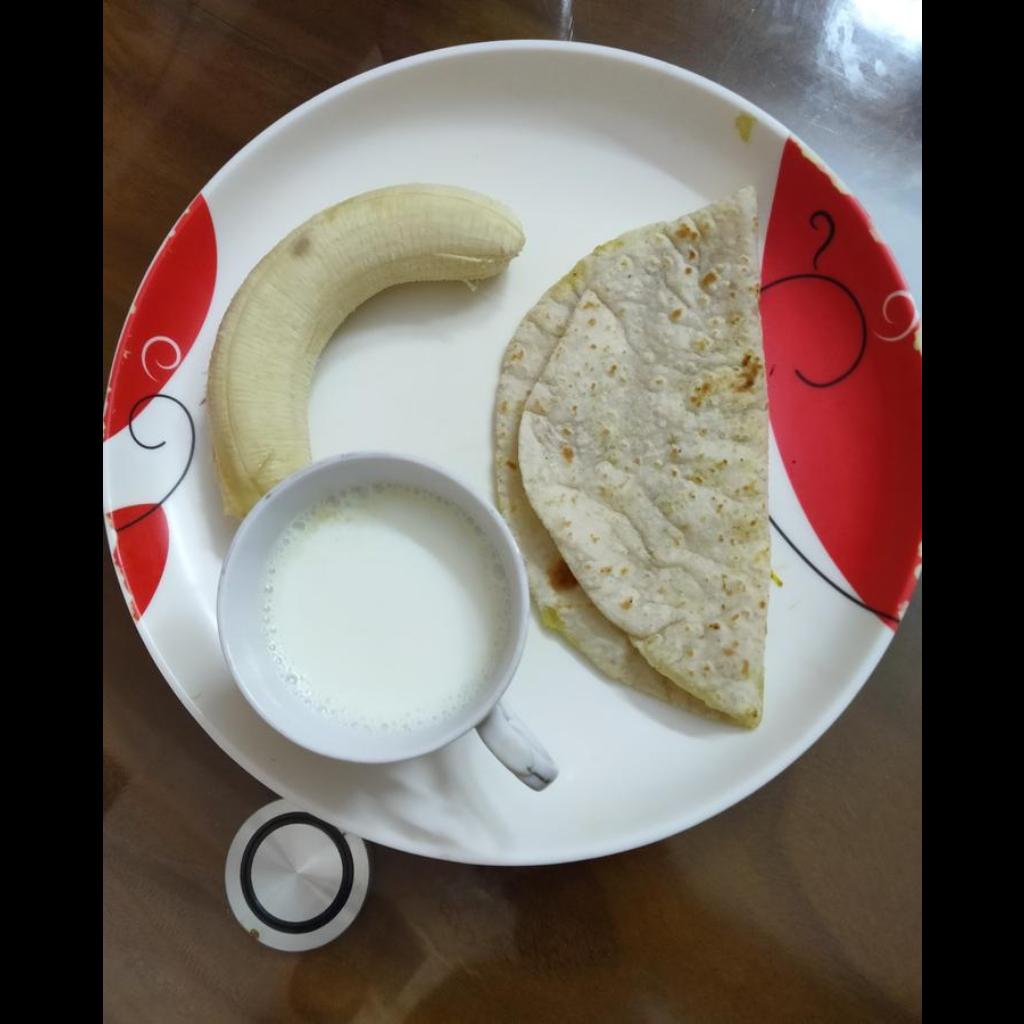banana: (212, 186, 528, 514)
milk: (264, 488, 504, 729)
ruti: (488, 183, 768, 729)
